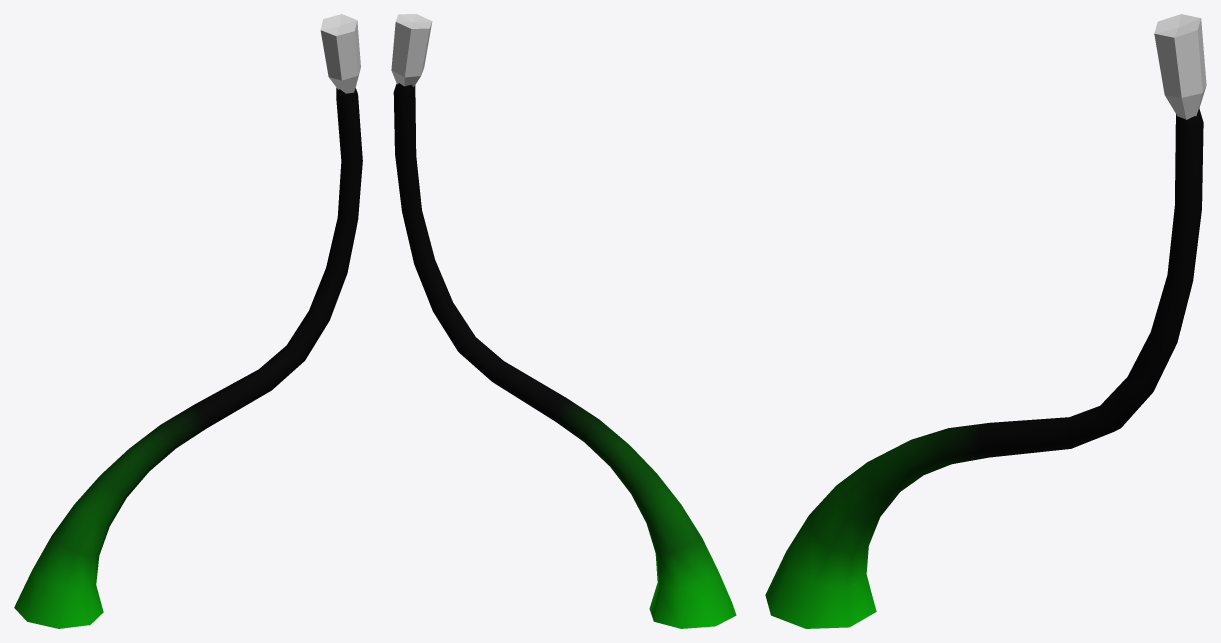
Rendered from SM_Collision_CoconutPalmB02.fbx.
The picture shows the model from 3 angles, left to right: view 1: azimuth 30°, elevation 25°; view 2: azimuth 150°, elevation 25°; view 3: azimuth 330°, elevation 25°; orthographic projection. The views are drawn at different scales.
Visible parts, largest first — view 1: Collision_CoconutPalmB02; view 2: Collision_CoconutPalmB02; view 3: Collision_CoconutPalmB02.
Part boxes in pixels (bbox=[...]): Collision_CoconutPalmB02: bbox=[14, 14, 362, 628]; Collision_CoconutPalmB02: bbox=[391, 14, 736, 628]; Collision_CoconutPalmB02: bbox=[765, 14, 1206, 628].
Bounding box in the file's own units: 535 × 793 × 119.
